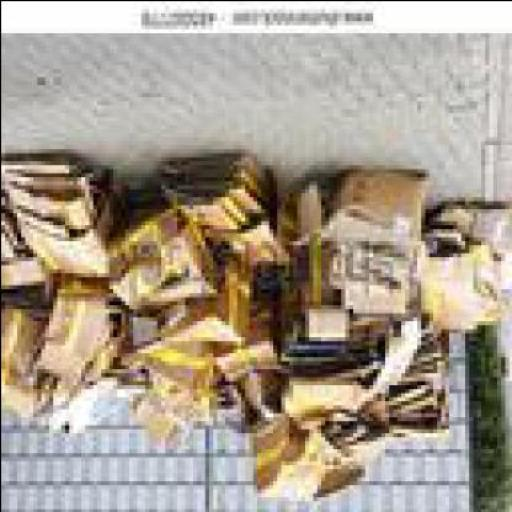cardboard: (288, 304, 452, 448), (297, 172, 432, 332), (116, 208, 256, 348), (4, 280, 120, 412), (4, 156, 120, 284), (164, 160, 288, 276), (248, 404, 372, 504), (416, 204, 508, 332), (132, 348, 228, 448), (220, 288, 288, 423)
